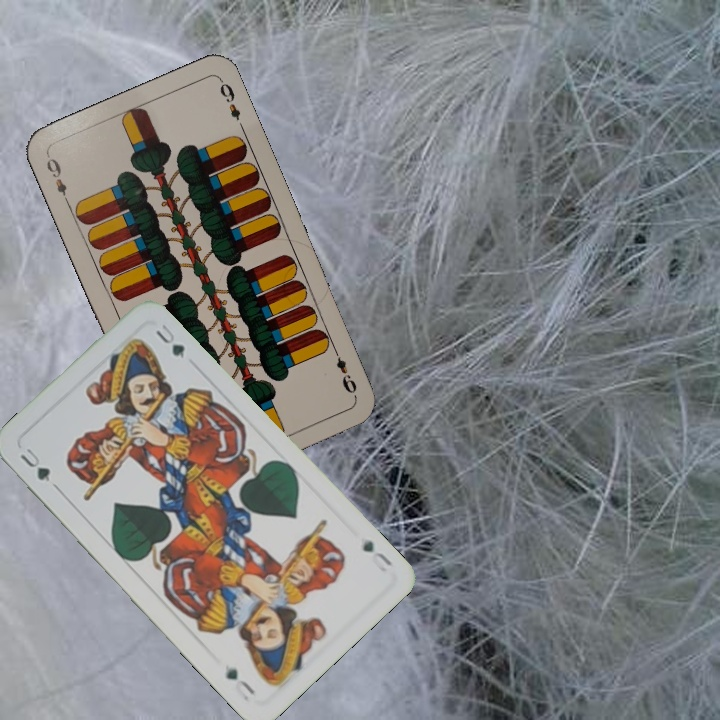E9: (42, 151, 72, 207), (329, 343, 360, 397)
GU: (16, 442, 53, 485), (358, 535, 395, 572)
